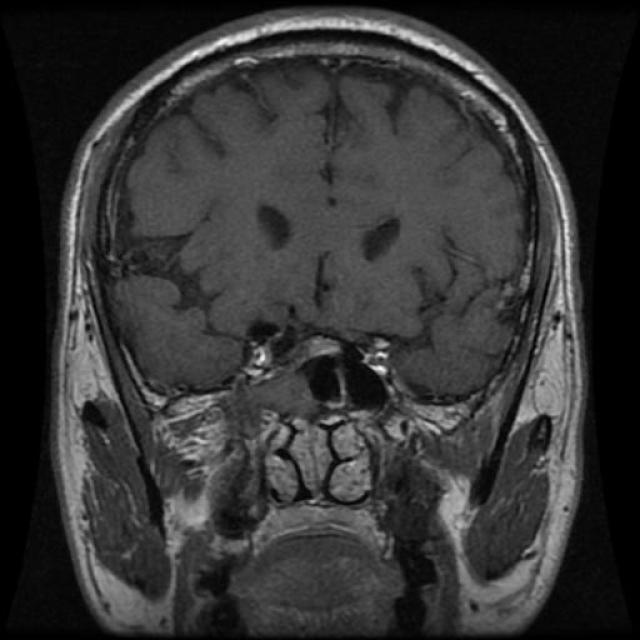pituitary: (224, 312, 394, 384)
